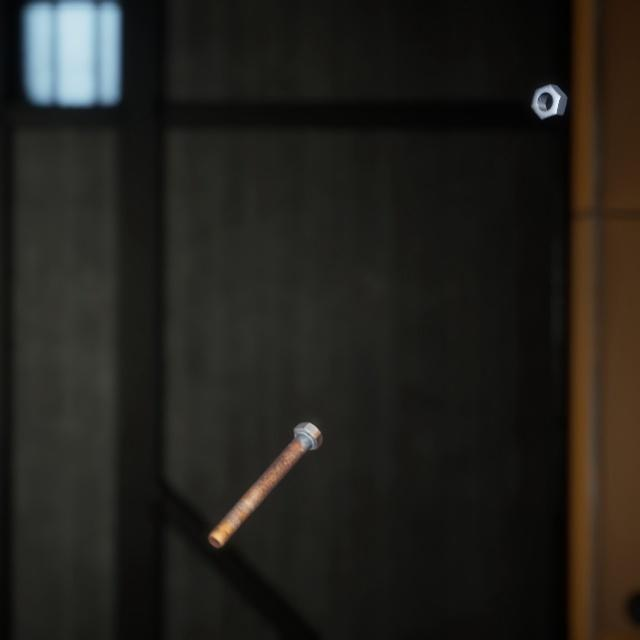bolt: (204, 396, 327, 529)
nut: (526, 68, 571, 113)
